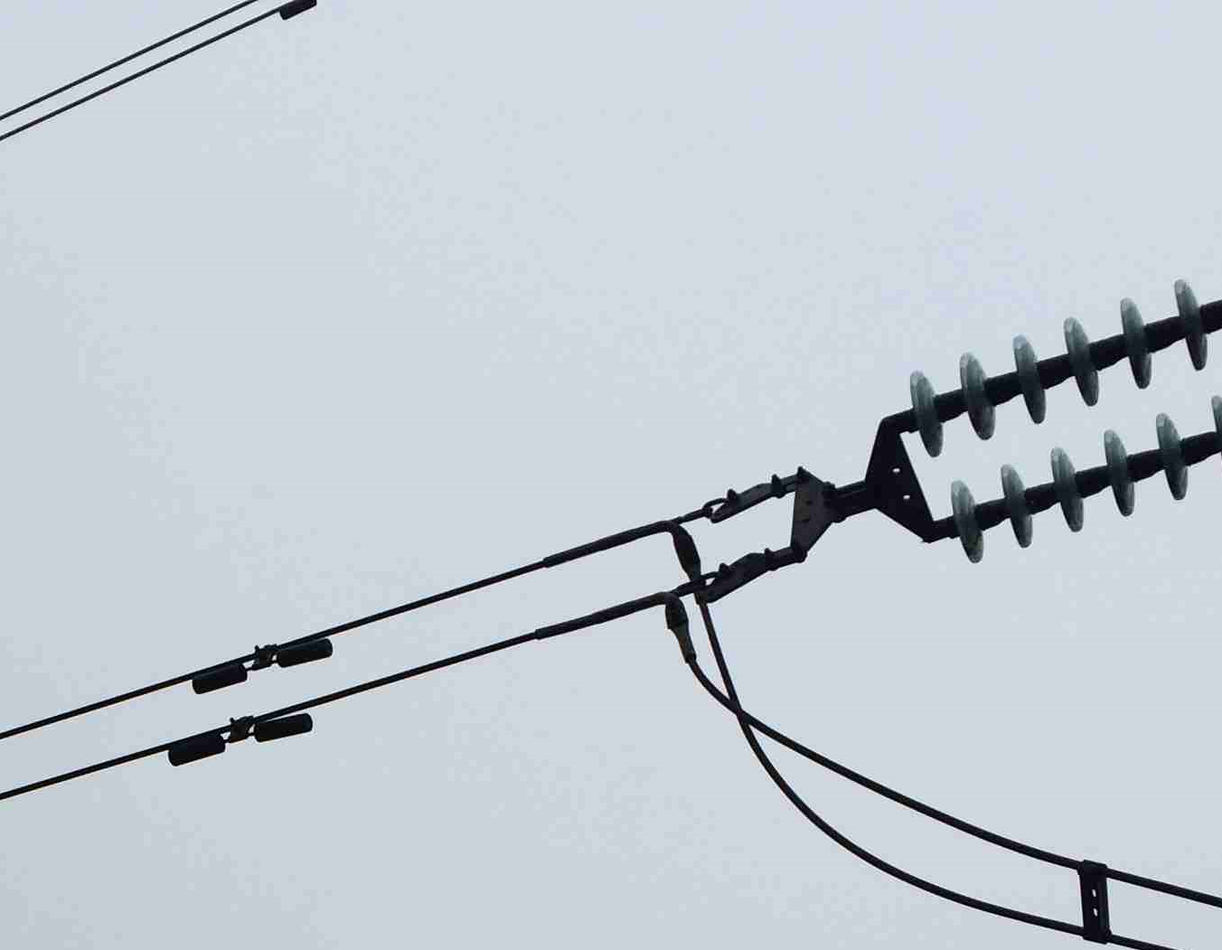damper: (186, 633, 336, 699), (165, 709, 318, 771)
